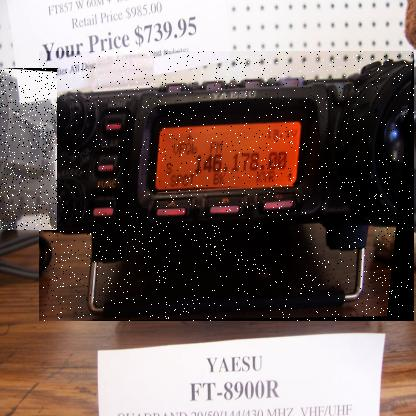Camera: (40, 52, 416, 323), (1, 69, 59, 232)
